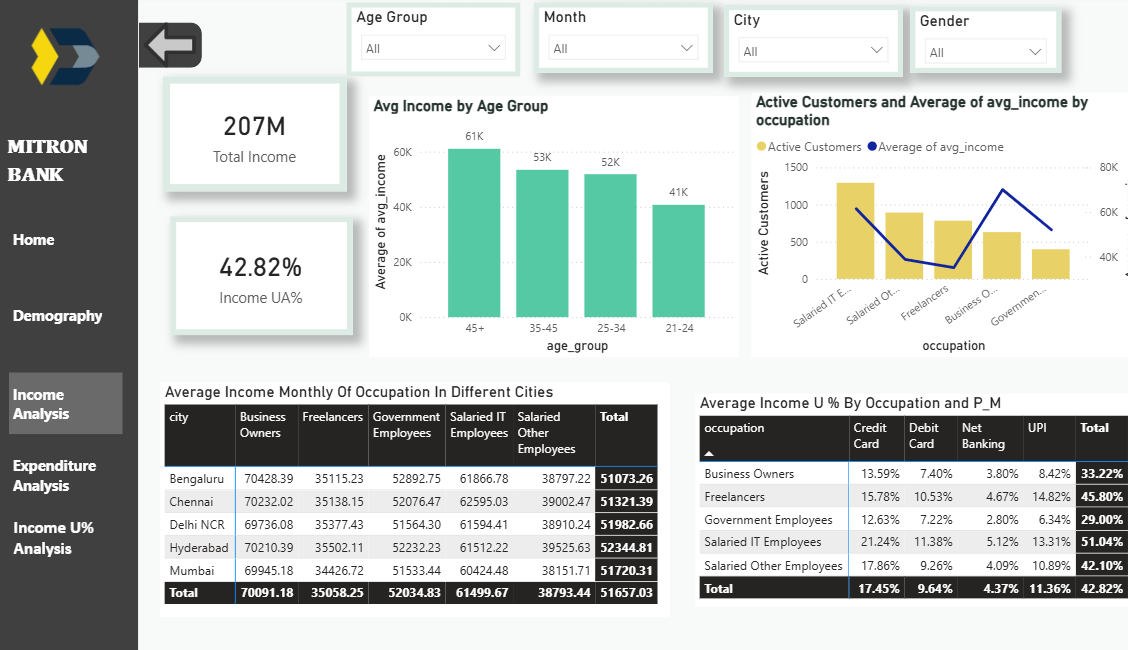

The dashboard page shown, as its layout file describes it:
{"tool":"powerbi","page":{"name":"Income Analysis","canvas":[1280,720],"ordinal":2},"visuals":[{"type":"shape","box":[-3.8,0,161.2,720],"z":0},{"type":"image","box":[6.2,0,142.5,134.3],"z":0,"group":"g1"},{"type":"shape","box":[157.8,30.2,68.6,49.4],"z":1000},{"type":"textbox","box":[8.4,109.1,108.8,111.2],"z":1000,"group":"g1"},{"type":"actionButton","box":[16.3,324.4,193,48.8],"z":2000},{"type":"image","box":[151.3,16.4,80.4,76.4],"z":3000},{"type":"actionButton","box":[16.3,241.9,193,48.8],"z":4000},{"type":"actionButton","box":[16.2,411.2,123.8,67.5],"z":5000},{"type":"actionButton","box":[16.2,496.2,123.8,55],"z":6000},{"type":"group","id":"g1","title":"Group 1","box":[6.2,0,142.5,220],"z":7000},{"type":"card","fields":{"Values":["dim_customers_mitron_bank.Total Income"]},"box":[184.1,88.6,200.4,125.4],"z":8000},{"type":"card","fields":{"Values":["dim_customers_mitron_bank.Income UA%"]},"box":[192.2,241.3,199.1,129.5],"z":9000},{"type":"clusteredColumnChart","title":"Avg Income by Age Group","fields":{"Category":["dim_customers_mitron_bank.age_group"],"Y":["Avg(dim_customers_mitron_bank.avg_income)"]},"box":[409,110.4,403.6,285],"z":10000},{"type":"lineClusteredColumnComboChart","fields":{"Category":["dim_customers_mitron_bank.occupation"],"Y":["dim_customers_mitron_bank.Active Customers"],"Y2":["Avg(dim_customers_mitron_bank.avg_income)"]},"box":[826.2,106.3,426.8,289.1],"z":11000},{"type":"pivotTable","title":"Average Income U % By Occupation and P_M","fields":{"Rows":["dim_customers_mitron_bank.occupation"],"Columns":["fact_spends mitron_bank.payment_type"],"Values":["dim_customers_mitron_bank.Income UA%"]},"box":[764.9,434.9,488.1,231.8],"z":12000},{"type":"pivotTable","title":"Average Income Monthly Of Occupation In Different Cities","fields":{"Rows":["dim_customers_mitron_bank.city"],"Columns":["dim_customers_mitron_bank.occupation"],"Values":["Avg(dim_customers_mitron_bank.avg_income)"]},"box":[181.3,422.7,556.3,256.3],"z":13000},{"type":"slicer","title":"Age Group","fields":{"Values":["dim_customers_mitron_bank.age_group"]},"box":[384.2,8.2,189.4,81],"z":14000},{"type":"slicer","title":"Month","fields":{"Values":["fact_spends mitron_bank.month"]},"box":[588.7,8.2,194.9,76.8],"z":15000},{"type":"slicer","title":"City","fields":{"Values":["dim_customers_mitron_bank.city"]},"box":[795.9,11,194.9,78.2],"z":16000},{"type":"slicer","title":"Gender","fields":{"Values":["dim_customers_mitron_bank.gender"]},"box":[999,12.3,164.7,72.7],"z":17000},{"type":"textbox","box":[16.4,564.5,124.1,62.7],"z":18000}]}

Visuals, with their boxes on the page's 1280x720 design canvas (x1, y1, x2, y2). These are canvas units, not pixel positions in the 1128x650 screenshot, which may show the page scaled, cropped or inside an application window:
shape: <bbox>-4, 0, 157, 720</bbox>
image: <bbox>6, 0, 149, 134</bbox>
shape: <bbox>158, 30, 226, 80</bbox>
textbox: <bbox>8, 109, 117, 220</bbox>
actionButton: <bbox>16, 324, 209, 373</bbox>
image: <bbox>151, 16, 232, 93</bbox>
actionButton: <bbox>16, 242, 209, 291</bbox>
actionButton: <bbox>16, 411, 140, 479</bbox>
actionButton: <bbox>16, 496, 140, 551</bbox>
"Group 1" group: <bbox>6, 0, 149, 220</bbox>
card - dim_customers_mitron_bank.Total Income: <bbox>184, 89, 384, 214</bbox>
card - dim_customers_mitron_bank.Income UA%: <bbox>192, 241, 391, 371</bbox>
"Avg Income by Age Group" clusteredColumnChart: <bbox>409, 110, 813, 395</bbox>
lineClusteredColumnComboChart - dim_customers_mitron_bank.occupation x dim_customers_mitron_bank.Active Customers: <bbox>826, 106, 1253, 395</bbox>
"Average Income U % By Occupation and P_M" pivotTable: <bbox>765, 435, 1253, 667</bbox>
"Average Income Monthly Of Occupation In Different Cities" pivotTable: <bbox>181, 423, 738, 679</bbox>
"Age Group" slicer: <bbox>384, 8, 574, 89</bbox>
"Month" slicer: <bbox>589, 8, 784, 85</bbox>
"City" slicer: <bbox>796, 11, 991, 89</bbox>
"Gender" slicer: <bbox>999, 12, 1164, 85</bbox>
textbox: <bbox>16, 564, 140, 627</bbox>
